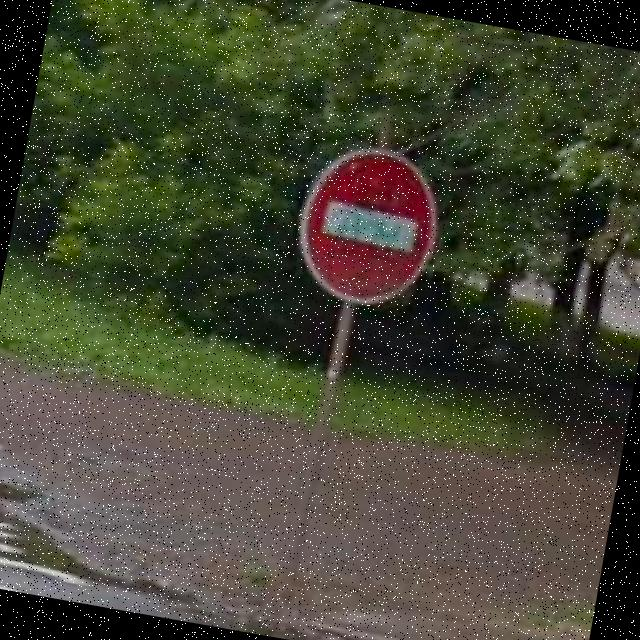Zakaz wjazdu: (282, 130, 456, 320)
